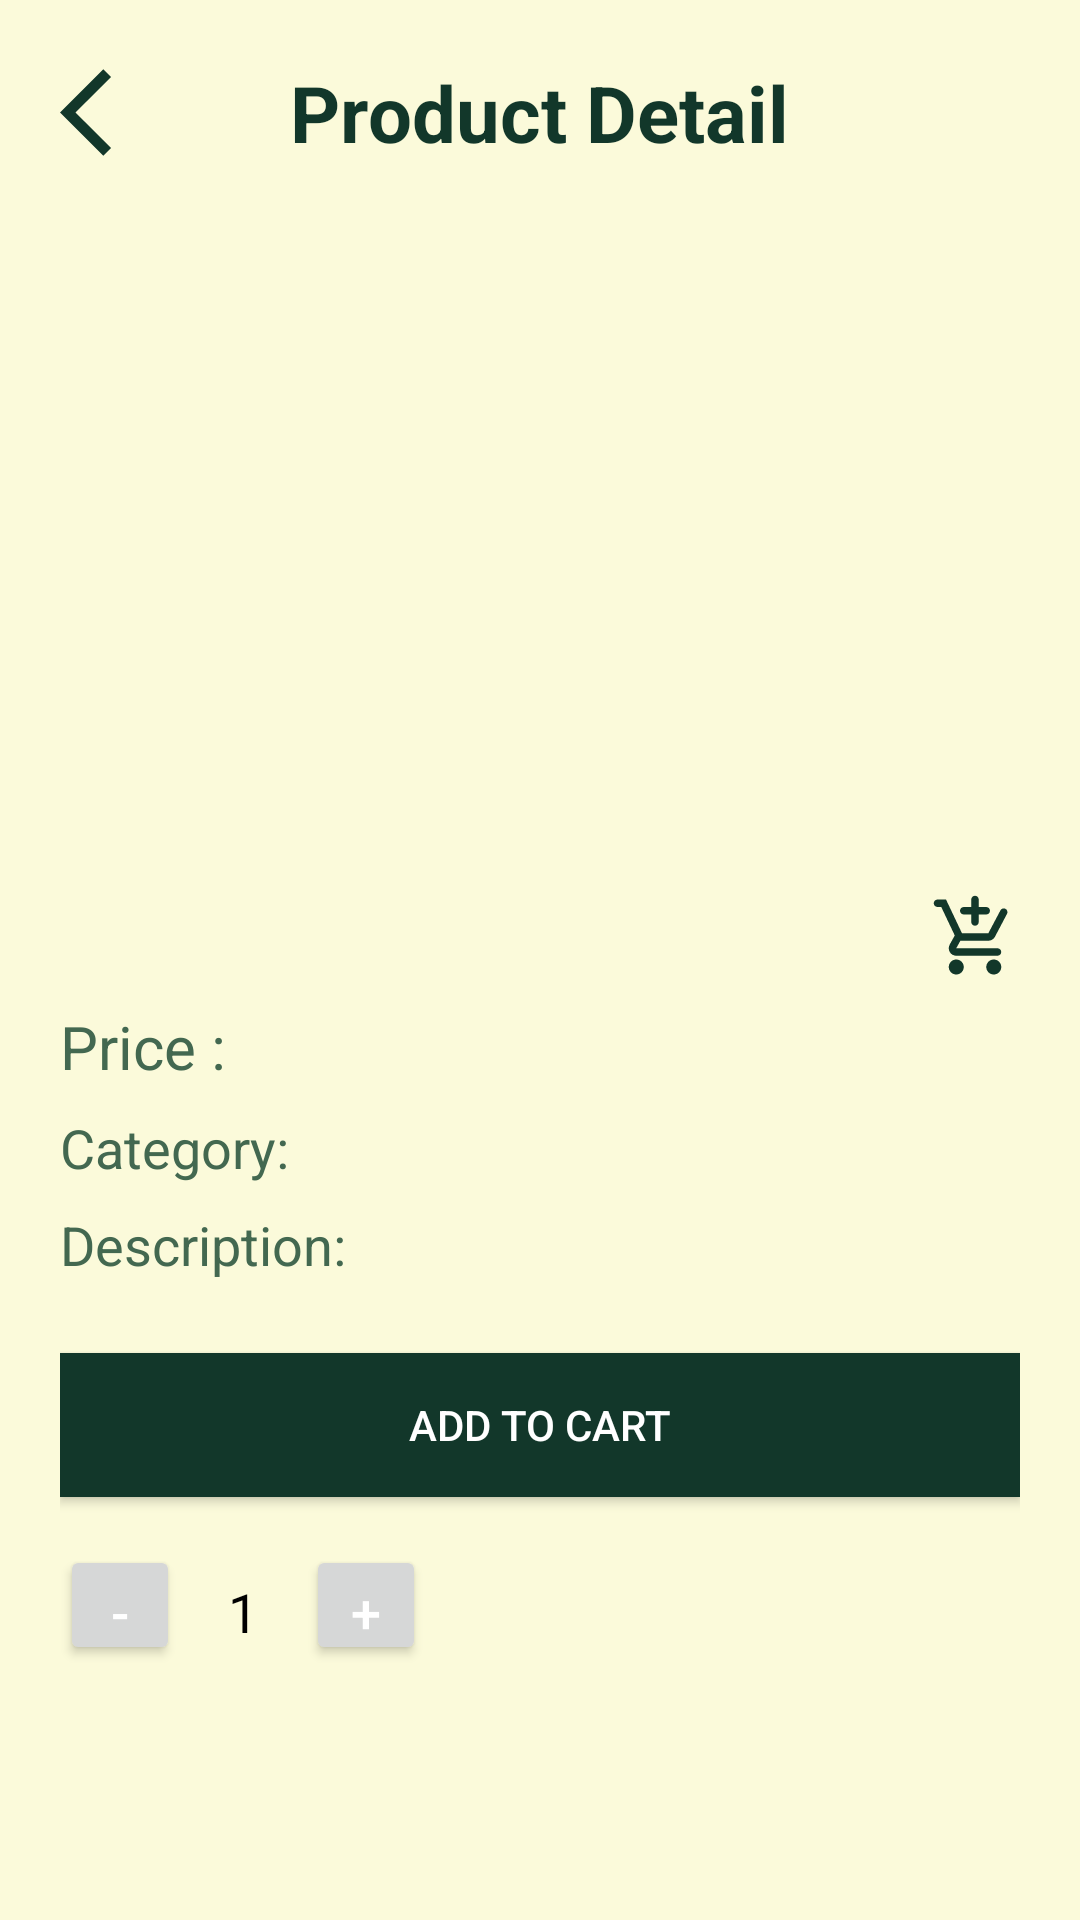

Screen size 1080 x 1920. Icon name, then its center in pixels as point (x, y):
add shopping cart: point (970, 935)
arrow back: point (85, 112)
